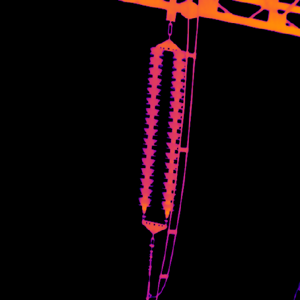insulator: (133, 46, 188, 215)
